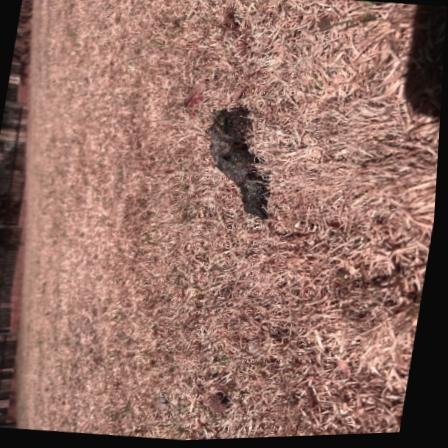dog-poop: (188, 101, 288, 226)
